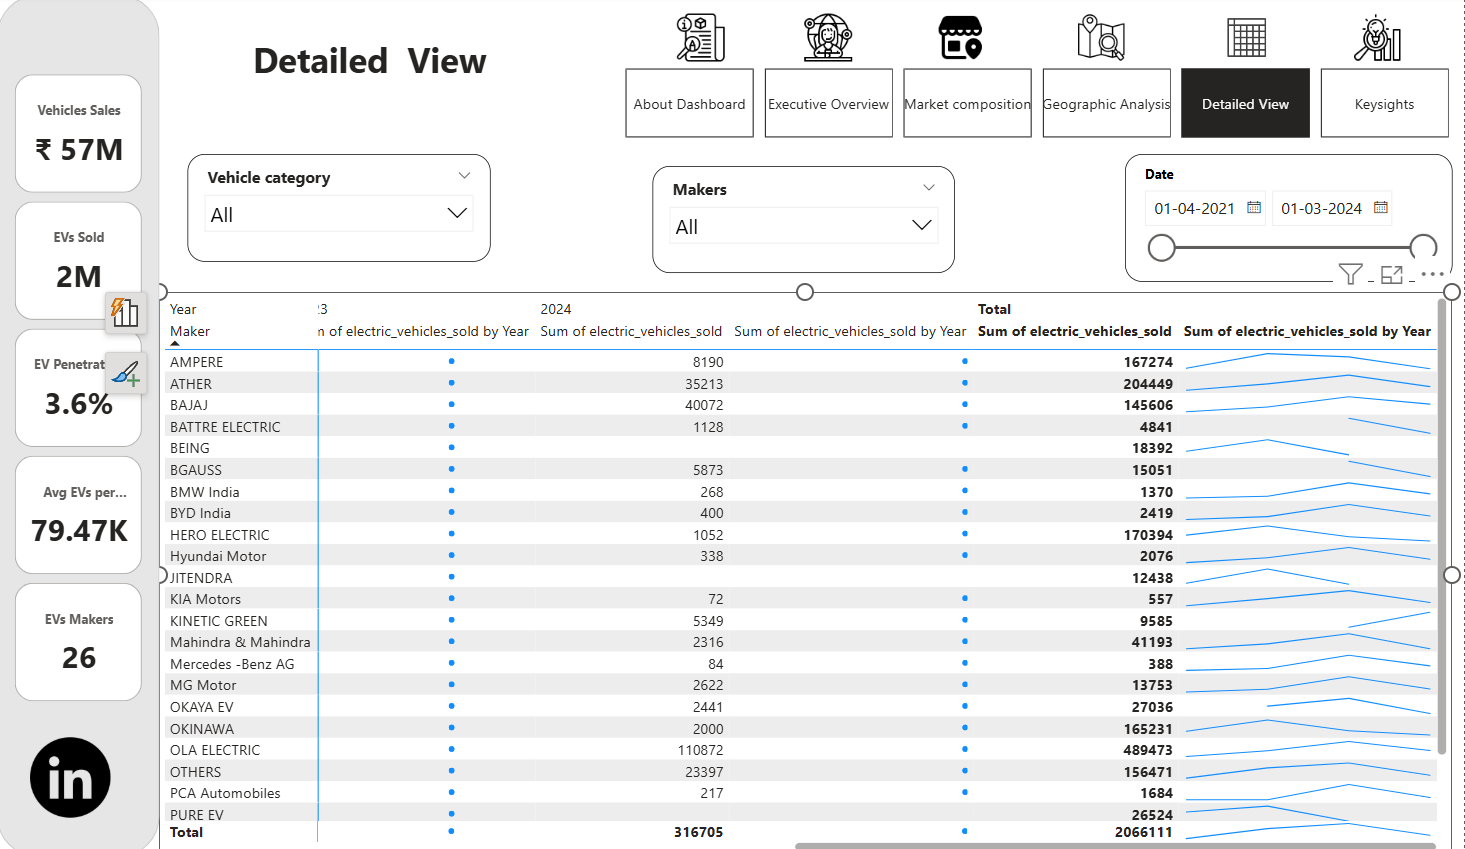

This screenshot's page, from the dashboard's own definition file:
{"tool":"powerbi","page":{"name":" Detailed View","canvas":[1362,800],"ordinal":4},"visuals":[{"type":"textbox","box":[177.4,32.1,337.7,67.9],"z":0},{"type":"slicer","fields":{"Values":["dim_date.date"]},"box":[1047.2,147.2,303.8,118.9],"z":1000},{"type":"slicer","fields":{"Values":["electric_vehicle_sales_by_makers.vehicle_category"]},"box":[177.4,147.2,281.1,100],"z":2000},{"type":"slicer","fields":{"Values":["electric_vehicle_sales_by_makers.Maker"]},"box":[608,158.5,280.8,99.5],"z":3000},{"type":"pivotTable","fields":{"Rows":["electric_vehicle_sales_by_makers.Maker"],"Values":["Sum(electric_vehicle_sales_by_makers.electric_vehicles_sold)","SparklineData(Sum(electric_vehicle_sales_by_makers.electric_vehicles_sold)_[dim_date.date.Variation.Date Hierarchy.Year]"],"Columns":["dim_date.date.Variation.Date Hierarchy.Year"]},"box":[150.9,275.5,1200,524.5],"z":4000},{"type":"shape","box":[0,0,150.9,800],"z":5000},{"type":"image","box":[737.7,11.3,67.9,56.6],"z":6000},{"type":"image","box":[860.4,11.3,67.9,56.6],"z":7000},{"type":"image","box":[990.6,11.3,67.9,56.6],"z":8000},{"type":"image","box":[1126.4,11.3,67.9,56.6],"z":9000},{"type":"image","box":[618.9,11.3,67.9,56.6],"z":10000},{"type":"cardVisual","fields":{"Data":["electric_vehicle_sales_by_state.Vehicles Sold","Sum(electric_vehicle_sales_by_state.electric_vehicles_sold)","electric_vehicle_sales_by_state.EV Penetration %","electric_vehicle_sales_by_makers.Average EVs per Maker","electric_vehicle_sales_by_makers.Distinct Makers"]},"box":[11.3,67.9,128.3,594.3],"z":11000},{"type":"pageNavigator","box":[583,67.9,767.9,64.2],"z":12000},{"type":"image","box":[0,683,135.8,84.9],"z":13000},{"type":"image","box":[1247.2,11.3,67.9,56.6],"z":14000}]}

Visuals, with their boxes on the page's 1362x800 design canvas (x1, y1, x2, y2). These are canvas units, not pixel positions in the 1465x849 screenshot, which may show the page scaled, cropped or inside an application window:
textbox: l=177, t=32, r=515, b=100
slicer - dim_date.date: l=1047, t=147, r=1351, b=266
slicer - electric_vehicle_sales_by_makers.vehicle_category: l=177, t=147, r=458, b=247
slicer - electric_vehicle_sales_by_makers.Maker: l=608, t=158, r=889, b=258
pivotTable - electric_vehicle_sales_by_makers.Maker x Sum(electric_vehicle_sales_by_makers.electric_vehicles_sold): l=151, t=276, r=1351, b=800
shape: l=0, t=0, r=151, b=800
image: l=738, t=11, r=806, b=68
image: l=860, t=11, r=928, b=68
image: l=991, t=11, r=1058, b=68
image: l=1126, t=11, r=1194, b=68
image: l=619, t=11, r=687, b=68
cardVisual - electric_vehicle_sales_by_state.Vehicles Sold x Sum(electric_vehicle_sales_by_state.electric_vehicles_sold): l=11, t=68, r=140, b=662
pageNavigator: l=583, t=68, r=1351, b=132
image: l=0, t=683, r=136, b=768
image: l=1247, t=11, r=1315, b=68
